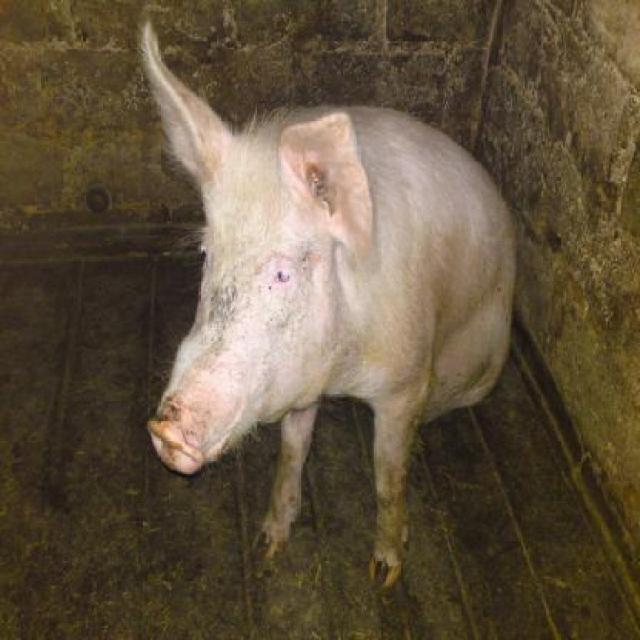pig: (137, 8, 519, 588)
